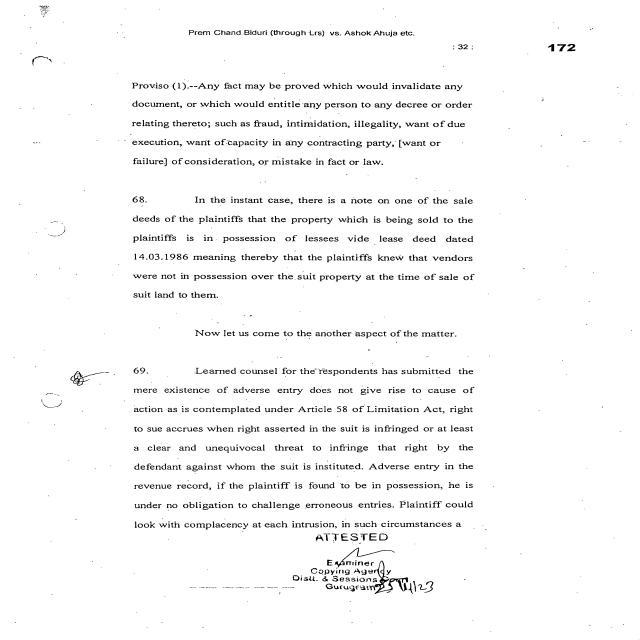page-number: (471, 0, 638, 85)
